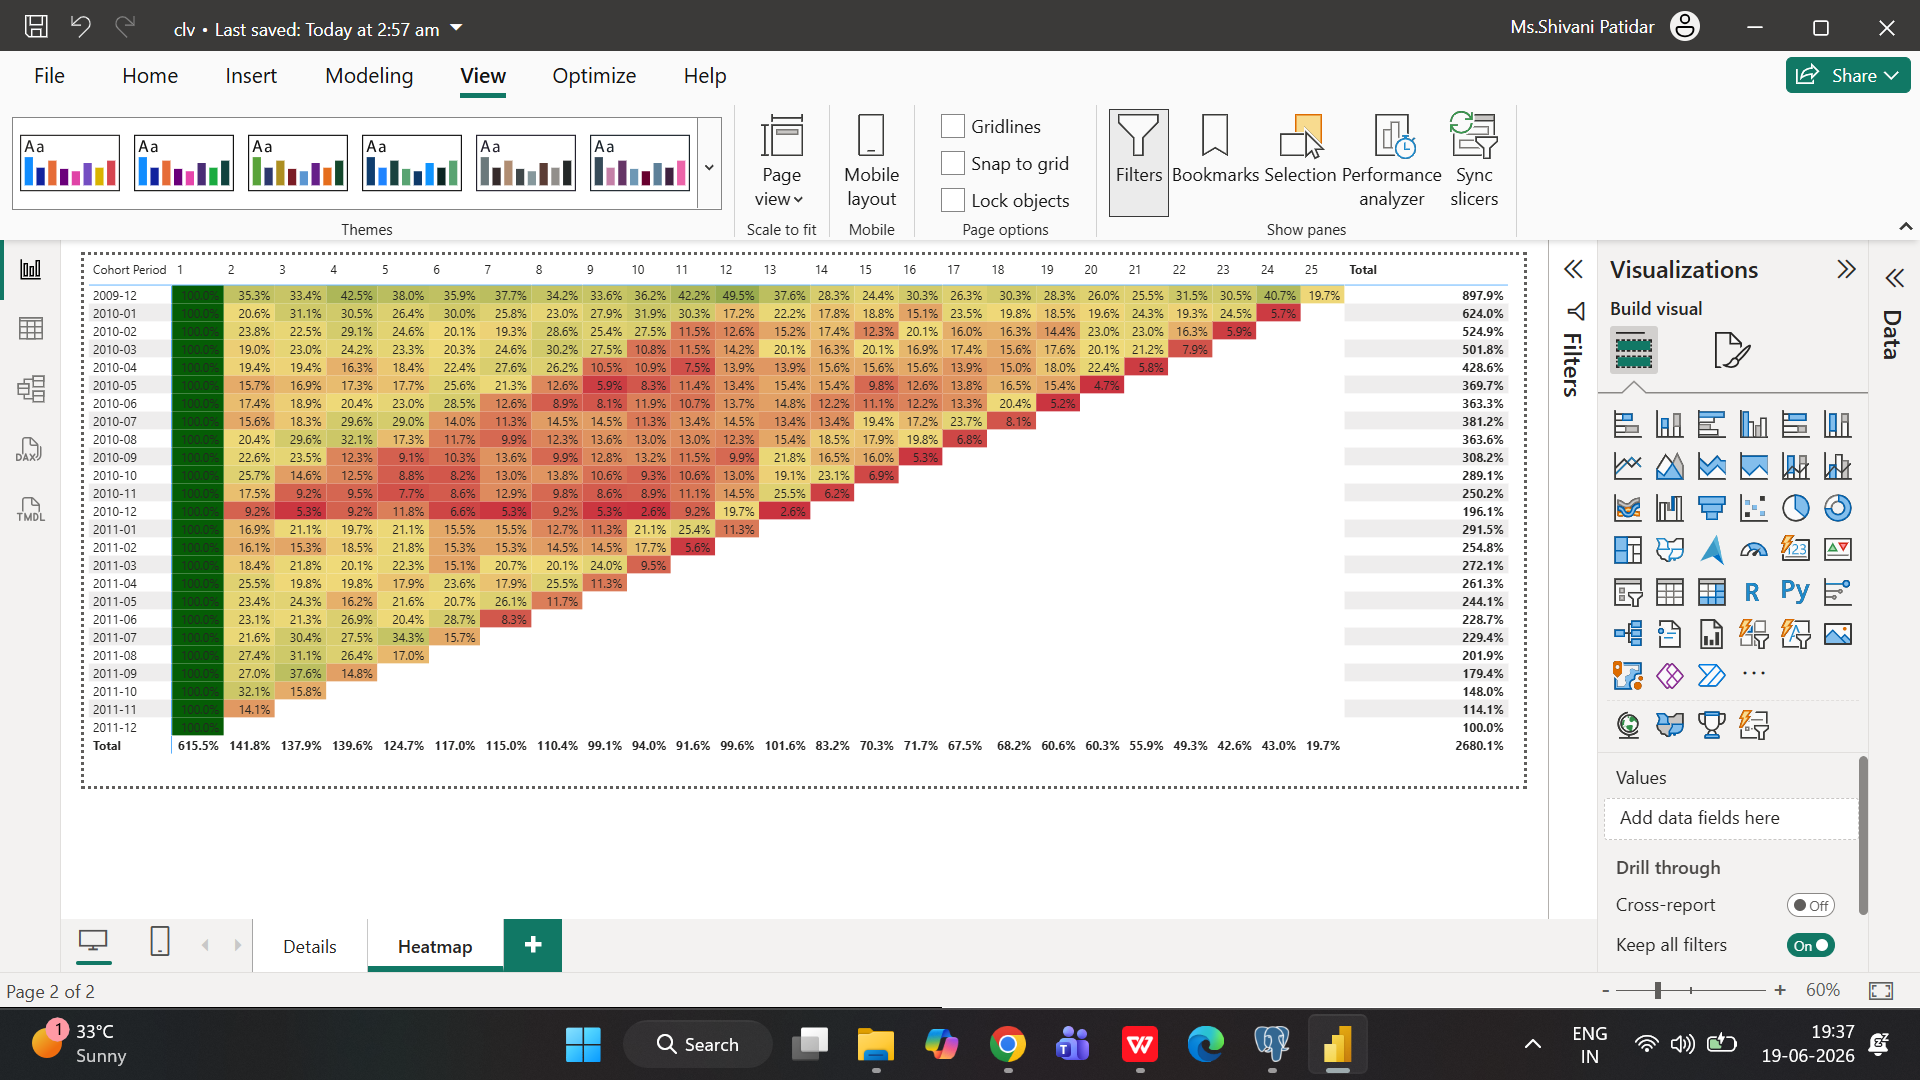

Layout of this report page (visuals, bound fields, positions):
{"tool":"powerbi","page":{"name":"Heatmap","canvas":[1600,590],"ordinal":1},"visuals":[{"type":"pivotTable","fields":{"Values":["public final_cohort_data.Retention %"],"Columns":["public final_cohort_data.cohort_index"],"Rows":["public final_cohort_data.Cohort Period"]},"box":[0,0,1686.6,628.4],"z":0}]}

Visuals, with their boxes on the page's 1600x590 design canvas (x1, y1, x2, y2). These are canvas units, not pixel positions in the 1920x1080 screenshot, which may show the page scaled, cropped or inside an application window:
pivotTable - public final_cohort_data.Retention % x public final_cohort_data.cohort_index: rect(0, 0, 1687, 628)
